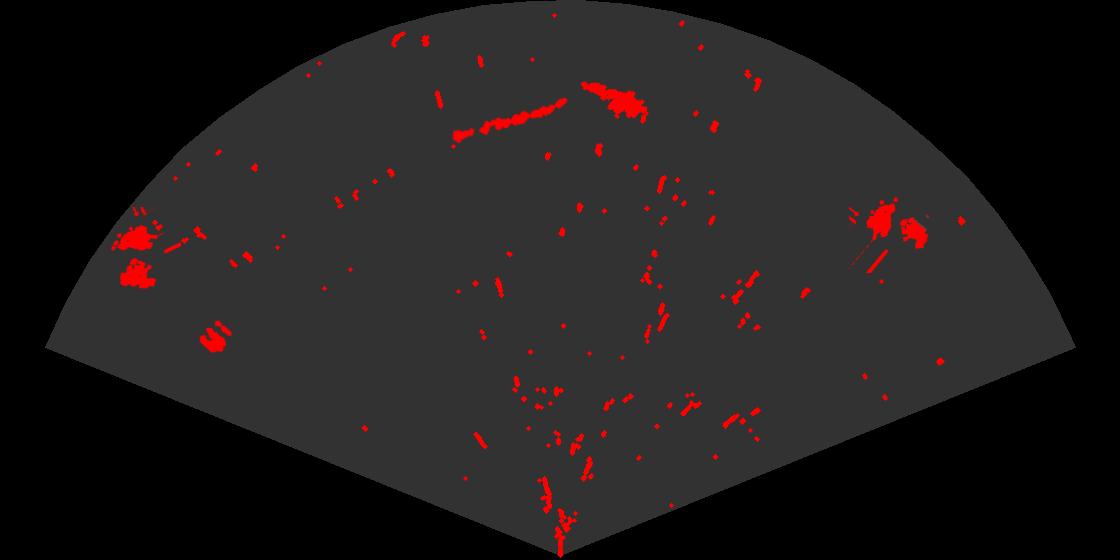ball: (198, 318, 234, 355)
cage: (849, 196, 931, 273), (110, 207, 181, 291)
chain: (450, 96, 570, 145)
frogman: (579, 80, 647, 121)
